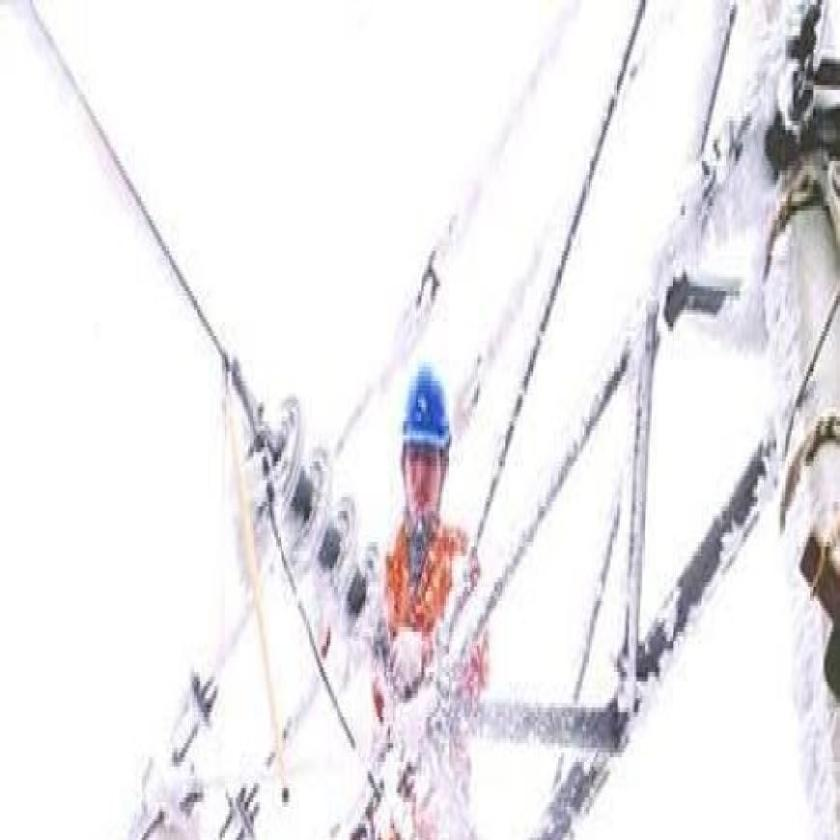Con_casco: (398, 360, 454, 552)
